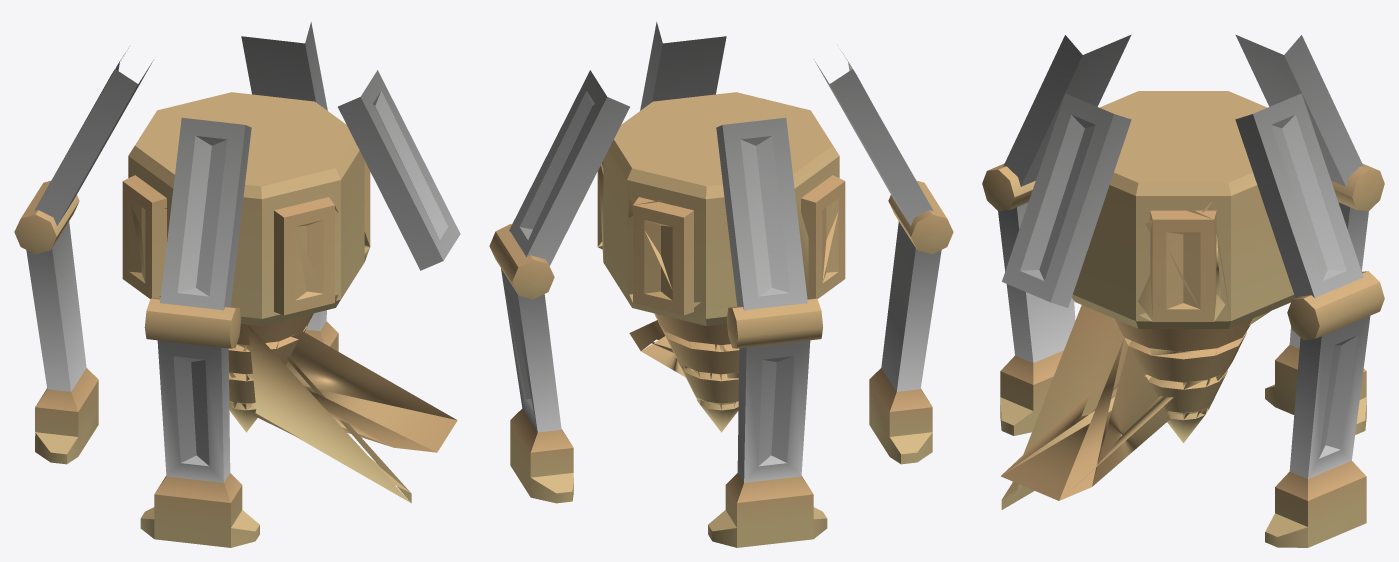
File: mortar.glb
3 renders of one model, left to right at view 1: azimuth 30°, elevation 25°; view 2: azimuth 150°, elevation 25°; view 3: azimuth 270°, elevation 25°, orthographic. The views are drawn at different scales.
Size of the model in its own units: 1.75 by 1.95 by 1.75.
